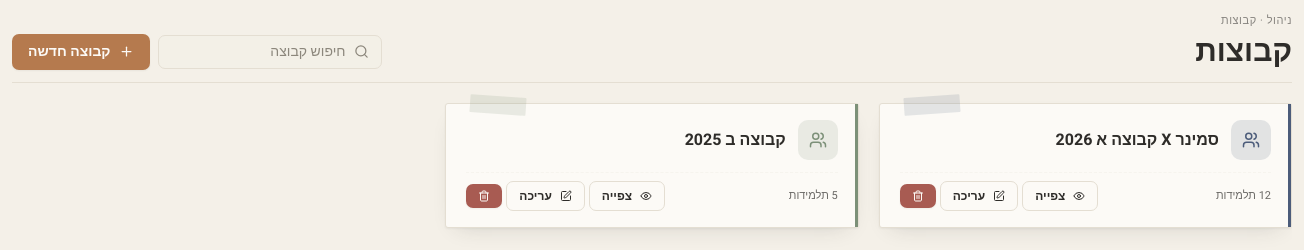
GroupsPage › searching › finds a group by any part of its name - seminar, name or year
Expected: the text "סמינר X קבוצה א 2026" is shown, [1056,128,1219,152]
Step 1. Type "סמינר x" into the field labelled "חיפוש קבוצה" → (258, 52), box [170,42,346,62]
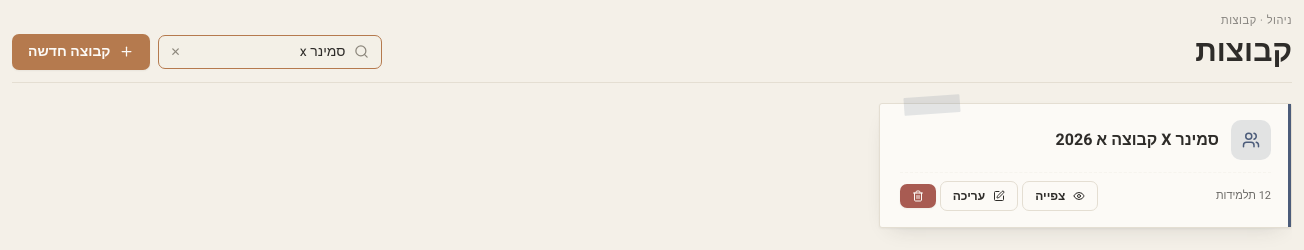
Expected: the text "סמינר X קבוצה א 2026" is shown, [1056,128,1219,152]
Now the text "קבוצה ב 2025" is gone
Step 2. Clear the field named "חיפוש קבוצה" → (267, 52), box [189,42,346,62]
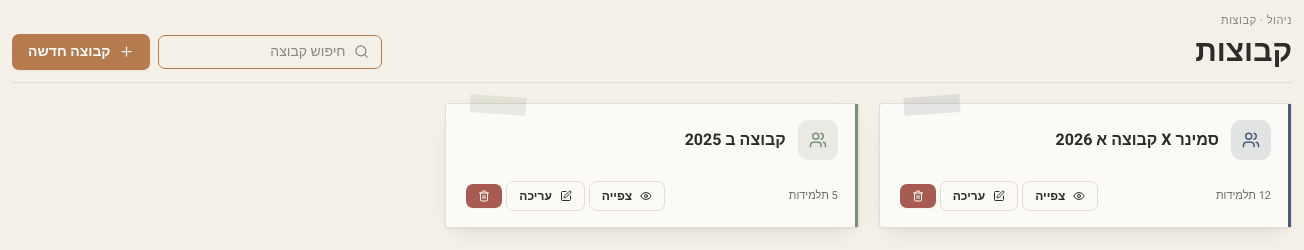
Step 3. Type "2025" into the field labelled "חיפוש קבוצה" → (258, 52), box [170,42,346,62]
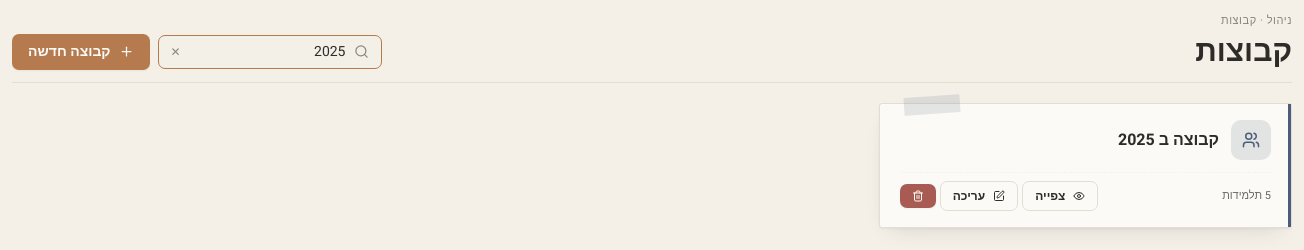
Now the text "קבוצה ב 2025" is shown, box [1118,128,1219,152]
Now the text "סמינר X קבוצה א 2026" is gone
